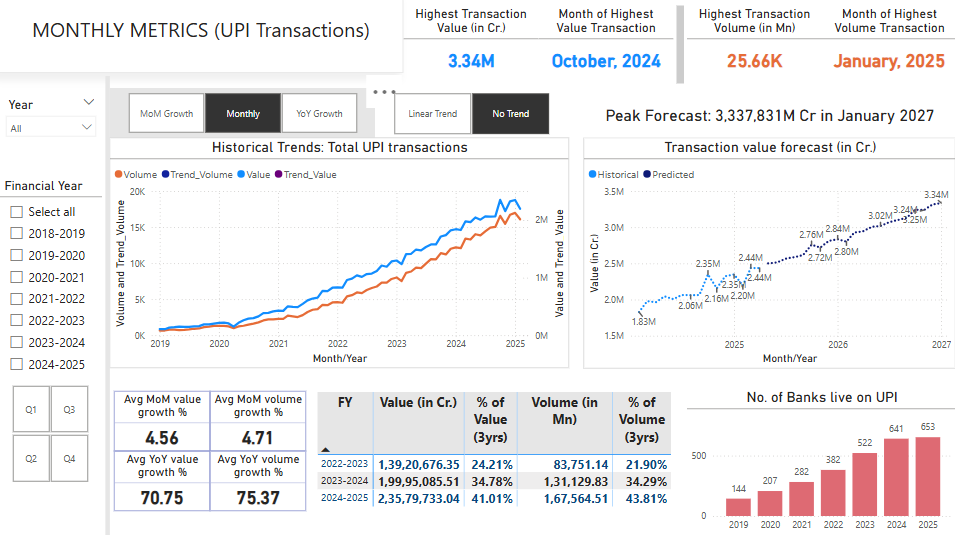

Layout of this report page (visuals, bound fields, positions):
{"tool":"powerbi","page":{"name":"Monthly Metrics","canvas":[1280,720],"ordinal":1},"visuals":[{"type":"lineChart","title":"Historical Trends: Total UPI transactions","fields":{"Y":["Monthly metrics.Dynamic_Volume","Assist Monthly Table.Trend_Volume"],"Category":["Monthly metrics.ds"],"Y2":["Monthly metrics.Dynamic_Value","Assist Monthly Table.Trend_Value"]},"box":[149.1,186.4,612.5,307.5],"z":0},{"type":"slicer","fields":{"Values":["Trend Measures.Measures"]},"box":[150.5,119.3,354,66],"z":1000},{"type":"textbox","box":[2,0,540,100],"z":2000},{"type":"slicer","fields":{"Values":["Ref MeasureTrendBridge.Trends"]},"box":[504,120,256,68],"z":3000},{"type":"clusteredColumnChart","title":"No. of Banks live on UPI","fields":{"Category":["DF Monthly metrics.ds.Variation.Date Hierarchy.Year"],"Y":["Max(DF Monthly metrics.No. of Banks live on UPI)"]},"box":[920,520,360,200],"z":4000},{"type":"pivotTable","title":"Value of transactions (in Cr.)","fields":{"Values":["Sum(DF Monthly metrics.Value (in Cr.))","Divide(Sum(DF Monthly metrics.Value (in Cr.)), ScopedEval(Sum(DF Monthly metrics.Value (in Cr.)), [Role.Columns]))","Sum(DF Monthly metrics.Volume (in Mn))","Divide(Sum(DF Monthly metrics.Volume (in Mn)), ScopedEval(Sum(DF Monthly metrics.Volume (in Mn)), [Role.Columns]))"],"Rows":["DF Monthly metrics.Financial Year"]},"box":[421.7,520,490,200],"z":5000},{"type":"shape","box":[140,103.3,15,616.7],"z":6000},{"type":"slicer","title":"Financial Year","fields":{"Values":["S FYOptions.Financial Year"]},"box":[0,240,140,270],"z":7000},{"type":"slicer","fields":{"Values":["T TB_QuarterOptions.Quarter (Financial Year)"]},"box":[0,510,140,141.7],"z":8000},{"type":"slicer","fields":{"Values":["S YearOptions.Year"]},"box":[1.7,126.7,140,76.7],"z":9000},{"type":"lineChart","title":"Transaction value forecast (in Cr.)","fields":{"Category":["DF Monthly metrics.ds"],"Y":["Sum(DF Monthly metrics.Value (in Cr.))"],"Series":["DF Monthly metrics.DataType"]},"box":[781.8,186.4,496,308],"z":10000},{"type":"card","title":"Highest Transaction Value (in Cr.)","fields":{"Values":["Max(DF Monthly metrics.Value (in Cr.))"]},"box":[541.6,9.6,180,100],"z":11000},{"type":"card","title":"Highest Transaction Volume (in Mn)","fields":{"Values":["Max(DF Monthly metrics.Volume (in Mn))"]},"box":[919.6,9.6,180,100],"z":12000},{"type":"card","title":"Month of Highest Value Transaction","fields":{"Values":["Max(DF Monthly metrics.ds)"]},"box":[721.6,9.6,180,100],"z":13000},{"type":"card","title":"Month of Highest Volume Transaction","fields":{"Values":["Min(DF Monthly metrics.ds)"]},"box":[1099.6,9.6,180,100],"z":14000},{"type":"shape","box":[901.6,9.6,18,104],"z":15000},{"type":"card","title":"Avg MoM value growth %","fields":{"Values":["Avg(DF Monthly metrics.MoM Val Growth %)"]},"box":[155,523.1,128,80],"z":16000},{"type":"card","title":"Avg MoM volume growth %","fields":{"Values":["Avg(DF Monthly metrics.MoM Vol Growth %)"]},"box":[283,523.1,128,80],"z":17000},{"type":"card","title":"Avg YoY value growth %","fields":{"Values":["Avg(DF Monthly metrics.YoY Val Growth %)"]},"box":[155,603.1,128,80],"z":18000},{"type":"card","title":"Avg YoY  volume growth %","fields":{"Values":["Avg(DF Monthly metrics.YoY Vol Growth %)"]},"box":[283,603.1,128,80],"z":19000},{"type":"card","fields":{"Values":["Assist Monthly Table.ForecastedPeakTotalValue"]},"box":[781.7,126.7,496.7,60],"z":20000}]}

Visuals, with their boxes in screenshot pixels (x1, y1, x2, y2), scaled from the page's 1280x720 canvas onto the 955x535 screenshot:
"Historical Trends: Total UPI transactions" lineChart: (111, 139, 568, 367)
slicer - Trend Measures.Measures: (112, 89, 376, 138)
textbox: (1, 0, 404, 74)
slicer - Ref MeasureTrendBridge.Trends: (376, 89, 567, 140)
"No. of Banks live on UPI" clusteredColumnChart: (686, 386, 954, 534)
"Value of transactions (in Cr.)" pivotTable: (315, 386, 680, 534)
shape: (104, 77, 116, 534)
"Financial Year" slicer: (0, 178, 104, 379)
slicer - T TB_QuarterOptions.Quarter (Financial Year): (0, 379, 104, 484)
slicer - S YearOptions.Year: (1, 94, 106, 151)
"Transaction value forecast (in Cr.)" lineChart: (583, 139, 953, 367)
"Highest Transaction Value (in Cr.)" card: (404, 7, 538, 81)
"Highest Transaction Volume (in Mn)" card: (686, 7, 820, 81)
"Month of Highest Value Transaction" card: (538, 7, 673, 81)
"Month of Highest Volume Transaction" card: (820, 7, 954, 81)
shape: (673, 7, 686, 84)
"Avg MoM value growth %" card: (116, 389, 211, 448)
"Avg MoM volume growth %" card: (211, 389, 307, 448)
"Avg YoY value growth %" card: (116, 448, 211, 508)
"Avg YoY  volume growth %" card: (211, 448, 307, 508)
card - Assist Monthly Table.ForecastedPeakTotalValue: (583, 94, 954, 139)
